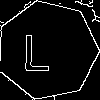L: (22, 25, 52, 71)
